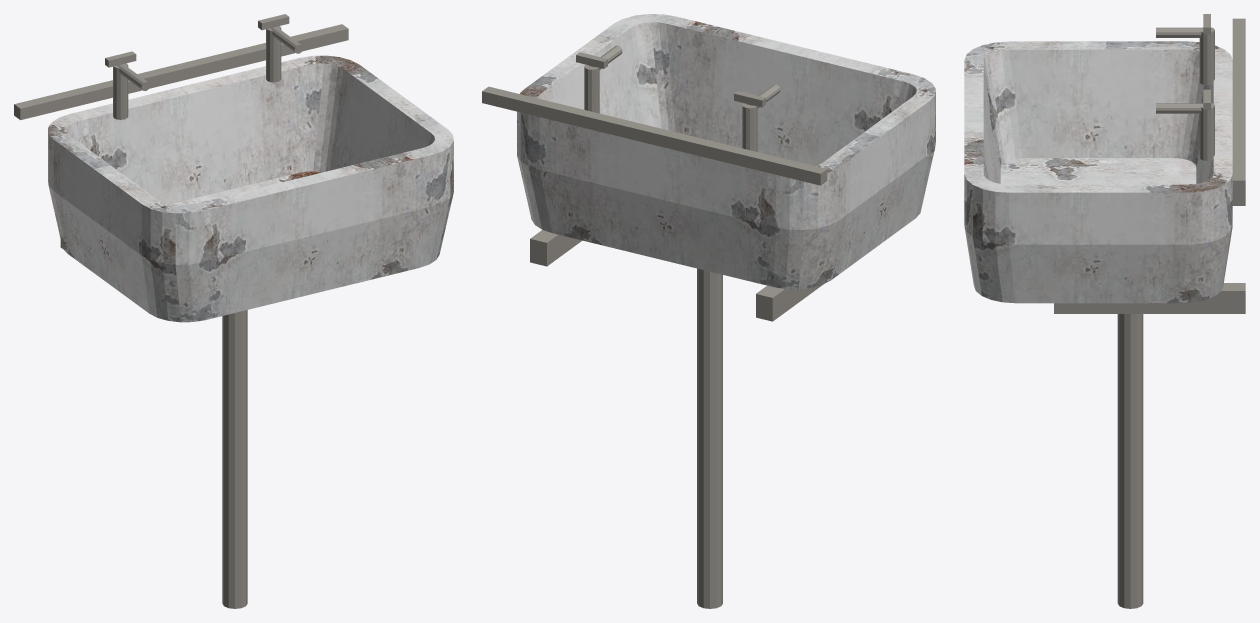
File: sink.glb
3 renders of one model, left to right at view 1: azimuth 30°, elevation 25°; view 2: azimuth 150°, elevation 25°; view 3: azimuth 270°, elevation 25°, orthographic. The views are drawn at different scales.
Visible parts, largest first — view 1: Basin, Fittings; view 2: Basin, Fittings; view 3: Basin, Fittings.
Boxes of the visible parts, x1,y1,x2,y2 form: Basin: (48,55,453,322); Fittings: (14,14,348,608); Basin: (517,14,935,289); Fittings: (482,45,827,608); Basin: (964,41,1232,303); Fittings: (1054,14,1245,608).
Bounding box in the file's own units: 0.6 × 0.941 × 0.44.
2 materials, 1 textured.
